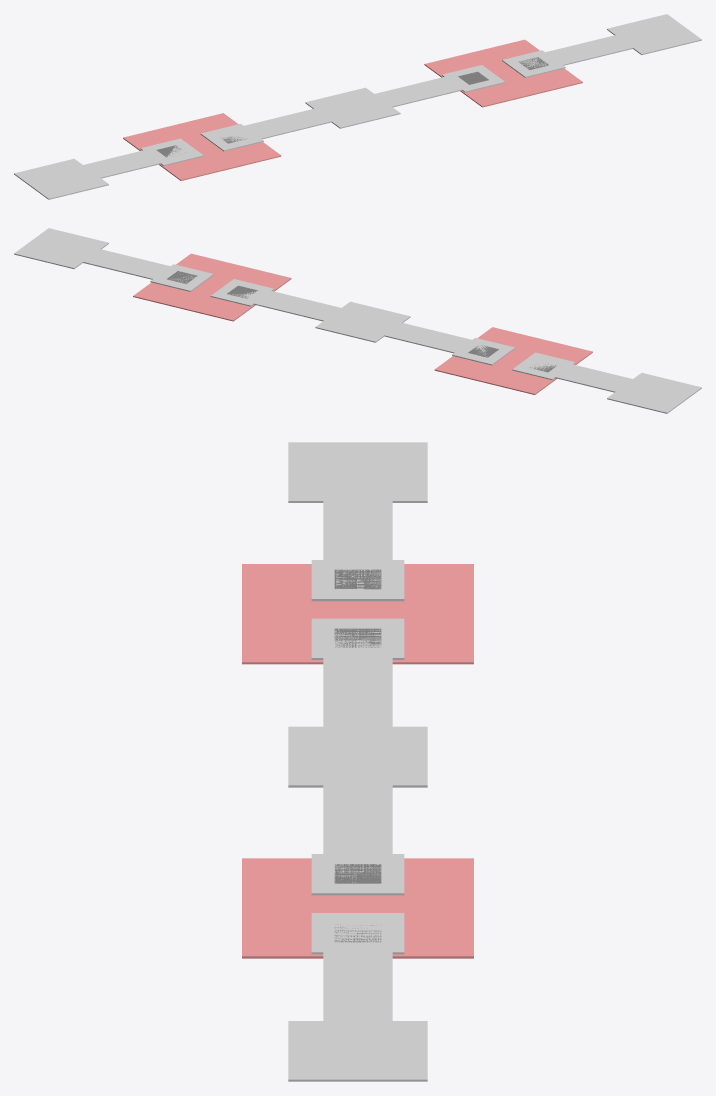
File: board.glb
3 renders of one model, top to bottom at view 1: azimuth 30°, elevation 25°; view 2: azimuth 150°, elevation 25°; view 3: azimuth 270°, elevation 25°, orthographic. The views are drawn at different scales.
Visible parts, largest first — view 1: Copper_Net2_Contour0, Copper_Net3_Contour0, Copper_Net1_Contour0, Copper_Net0_Contour1, Copper_Net0_Contour0; view 2: Copper_Net2_Contour0, Copper_Net3_Contour0, Copper_Net1_Contour0, Copper_Net0_Contour1, Copper_Net0_Contour0; view 3: Copper_Net2_Contour0, Copper_Net3_Contour0, Copper_Net1_Contour0 (×2), Copper_Net0_Contour1, Copper_Net0_Contour0.
Part boxes in pixels (<box>): Copper_Net2_Contour0: <box>200,65,505,151</box>; Copper_Net3_Contour0: <box>502,14,701,77</box>; Copper_Net1_Contour0: <box>14,138,203,199</box>; Copper_Net0_Contour1: <box>424,39,582,107</box>; Copper_Net0_Contour0: <box>123,113,281,180</box>; Copper_Net2_Contour0: <box>210,279,515,365</box>; Copper_Net3_Contour0: <box>14,228,213,291</box>; Copper_Net1_Contour0: <box>512,352,701,413</box>; Copper_Net0_Contour1: <box>133,253,291,321</box>; Copper_Net0_Contour0: <box>434,327,592,394</box>; Copper_Net2_Contour0: <box>288,618,427,895</box>; Copper_Net3_Contour0: <box>288,913,427,1081</box>; Copper_Net1_Contour0 (×2): <box>288,442,427,601</box>; Copper_Net0_Contour1: <box>242,858,473,958</box>; Copper_Net0_Contour0: <box>242,564,473,664</box>.
Size of what is drawn, in the model's own units: 6.5e-06 by 3e-08 by 1e-06.
